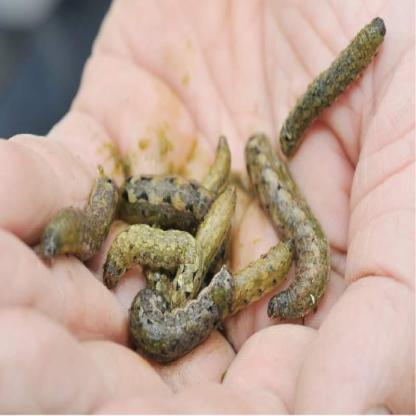armyworm: (243, 134, 334, 322), (278, 11, 389, 162), (121, 266, 239, 360), (35, 166, 122, 264), (118, 153, 221, 222), (100, 218, 198, 290), (214, 239, 299, 307), (190, 186, 237, 300)
